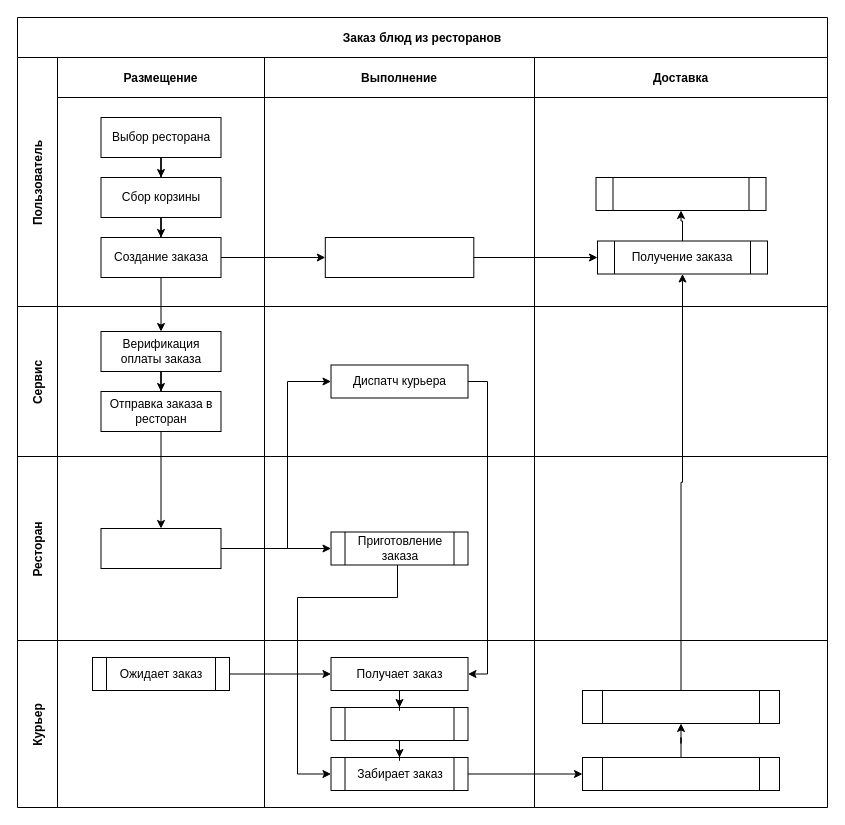
Image size: 845x825. Some labels were removed from this diagram. Each missing label, with the centre of its shape:
"Везёт заказ по адресу" goes at pixel 681 773.
"Едет в ресторан" goes at pixel 399 723.
"Ожидание заказа" goes at pixel 399 257.
"Передаёт заказ клиенту" goes at pixel 681 707.
"Подтверждение заказа" goes at pixel 160 548.
"Создание отзыва" goes at pixel 680 193.
